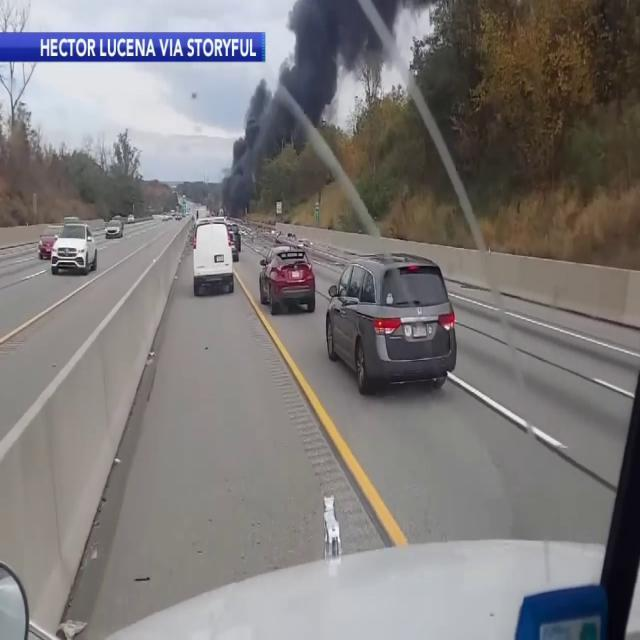Smoke: (225, 0, 373, 208)
